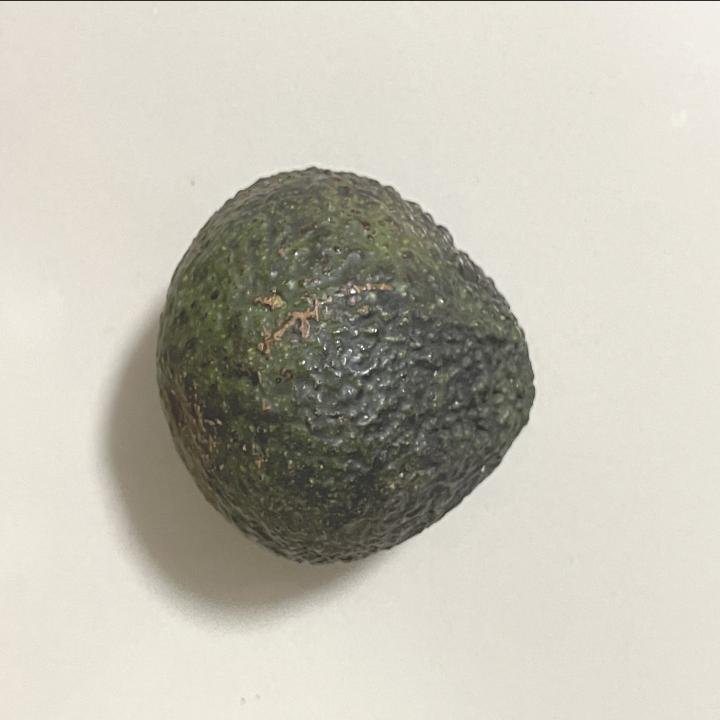Level1: (138, 143, 554, 582)
